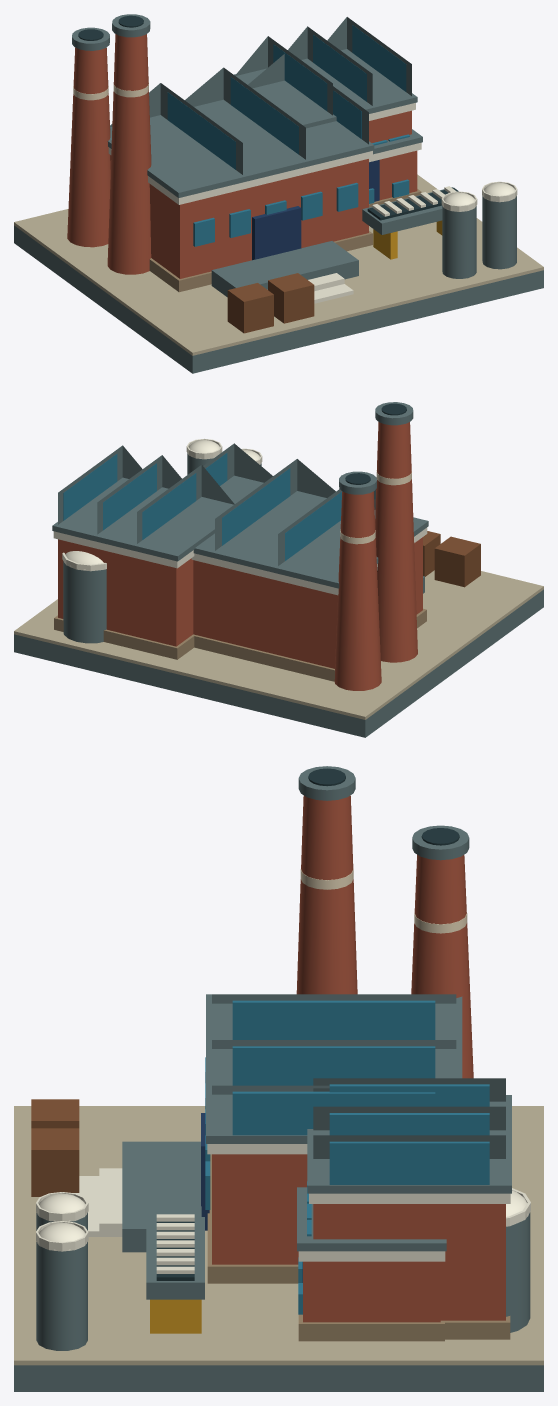
Rendered from factory-lv3.glb.
3 views of the same model, one above another, from view 1: azimuth 30°, elevation 25°; view 2: azimuth 150°, elevation 25°; view 3: azimuth 270°, elevation 25° (orthographic). The views are drawn at different scales.
Parts seen in each view (by area): view 1: foundation_paving, chimney_clay, main_workshop_clay, main_workshop_roof_iron, foundation_iron, main_workshop_skylights_glass, material_silos_iron, second_workshop_skylights_glass, loading_platform_iron, second_workshop_roof_iron, supply_crates_wood, main_workshop_sawtooth_iron (+17 smaller); view 2: foundation_paving, chimney_clay, main_workshop_clay, foundation_iron, second_workshop_clay, main_workshop_roof_iron, second_workshop_roof_iron, second_workshop_skylights_glass, main_workshop_skylights_glass, main_workshop_sawtooth_iron, second_workshop_sawtooth_iron, supply_tank_iron (+10 smaller); view 3: foundation_paving, main_workshop_skylights_glass, chimney_clay, foundation_iron, second_workshop_skylights_glass, second_workshop_clay, main_workshop_clay, warehouse_clay, loading_platform_iron, main_workshop_roof_iron, second_workshop_sawtooth_iron, material_silos_iron (+20 smaller).
Boxes of the visible parts, x1,y1,x2,y2 form: foundation_paving: (14,174,543,355); chimney_clay: (67,34,151,274); main_workshop_clay: (110,155,368,278); main_workshop_roof_iron: (107,99,374,197); foundation_iron: (14,225,543,373); main_workshop_skylights_glass: (167,77,361,169); material_silos_iron: (442,196,516,278); second_workshop_skylights_glass: (273,25,406,111); loading_platform_iron: (211,241,358,297); second_workshop_roof_iron: (234,49,417,128); supply_crates_wood: (227,273,314,333); main_workshop_sawtooth_iron: (110,54,368,174); foundation_paving: (14,570,543,719); chimney_clay: (334,422,417,690); main_workshop_clay: (193,537,422,668); foundation_iron: (14,589,543,737); second_workshop_clay: (58,539,193,646); main_workshop_roof_iron: (193,475,428,588); second_workshop_roof_iron: (52,477,235,561); second_workshop_skylights_glass: (63,454,196,539); main_workshop_skylights_glass: (205,453,342,560); main_workshop_sawtooth_iron: (203,443,376,565); second_workshop_sawtooth_iron: (58,445,234,543); supply_tank_iron: (63,561,106,643); foundation_paving: (14,1106,543,1365); main_workshop_skylights_glass: (232,1000,435,1135); chimney_clay: (296,795,473,1078); foundation_iron: (14,1365,543,1391); second_workshop_skylights_glass: (329,1084,489,1184); second_workshop_clay: (313,1204,505,1320); main_workshop_clay: (212,1154,307,1264); warehouse_clay: (303,1261,440,1322); loading_platform_iron: (122,1141,201,1252); main_workshop_roof_iron: (206,994,462,1143); second_workshop_sawtooth_iron: (313,1078,505,1158); material_silos_iron: (36,1212,87,1350).
Size of the model in its own units: 1 by 0.7197 by 0.88.
